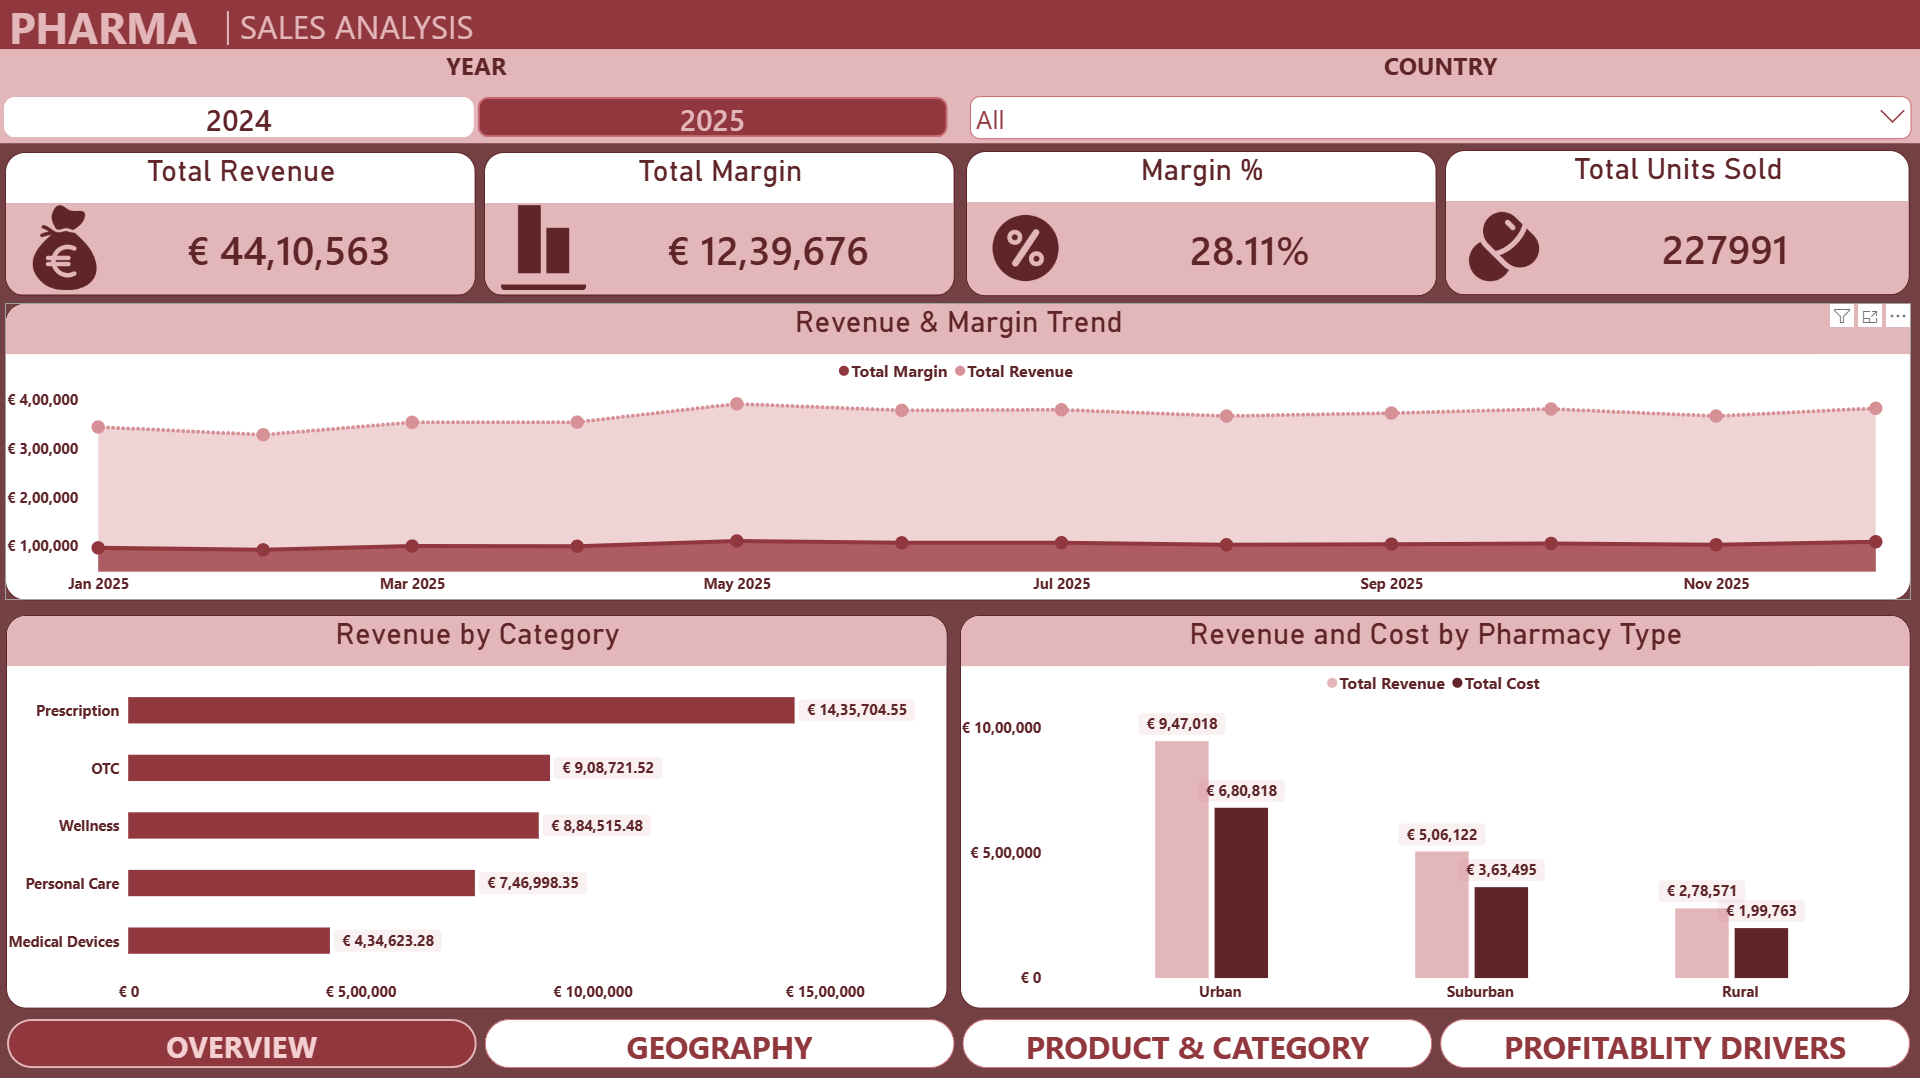

This screenshot's page, from the dashboard's own definition file:
{"tool":"powerbi","page":{"name":"OVERVIEW","canvas":[1920,1080],"ordinal":0},"visuals":[{"type":"cardVisual","title":"Margin %","fields":{"Data":["Measures_Table.Margin %"]},"box":[965,152.5,470,145],"z":0},{"type":"shape","box":[0,0,1920,145],"z":1000},{"type":"shape","box":[0,0,1920,51.2],"z":2000},{"type":"textbox","box":[241.1,6.3,276.4,56.8],"z":3000},{"type":"shape","box":[221.1,13.2,15.8,34],"z":4000},{"type":"advancedSlicerVisual","title":"YEAR","fields":{"Values":["T_DimDate.Year"]},"box":[0,51.2,953.3,93.3],"z":5000},{"type":"slicer","title":"COUNTRY","fields":{"Values":["T_DimPharmacy.Country"]},"box":[960,51.3,960,93],"z":6000},{"type":"cardVisual","title":"Total Revenue","fields":{"Data":["Measures_Table.Total Revenue"]},"box":[6.2,153.8,470,143.8],"z":7000},{"type":"cardVisual","title":"Total Units Sold","fields":{"Data":["Measures_Table.Total Units Sold"]},"box":[1443.9,152.1,464,145.5],"z":8000},{"type":"cardVisual","title":"Total Margin","fields":{"Data":["Measures_Table.Total Margin"]},"box":[483.8,153.8,470,143.8],"z":9000},{"type":"lineChart","title":"Revenue & Margin Trend","fields":{"Category":["T_DimDate.YearMonth"],"Y":["Measures_Table.Total Margin","Measures_Table.Total Revenue"]},"box":[5.7,304.3,1902.9,297.1],"z":10000},{"type":"clusteredBarChart","title":"Revenue by Category","fields":{"Category":["T_DimProduct.Category"],"Y":["Measures_Table.Total Revenue"]},"box":[7.3,616.4,940,392.7],"z":11000},{"type":"clusteredColumnChart","title":"Revenue and Cost by Pharmacy Type","fields":{"Category":["T_DimPharmacy.PharmacyType"],"Y":["Measures_Table.Total Revenue","Measures_Table.Total Cost"]},"box":[960,616.2,948.8,392.5],"z":12000},{"type":"pageNavigator","box":[7.7,1019.5,1901.3,49.6],"z":17000}]}

Visuals, with their boxes in screenshot pixels (x1, y1, x2, y2), scaled from the page's 1920x1080 canvas onto the 1920x1078 screenshot:
"Margin %" cardVisual: [965, 152, 1435, 297]
shape: [0, 0, 1919, 145]
shape: [0, 0, 1919, 51]
textbox: [241, 6, 518, 63]
shape: [221, 13, 237, 47]
"YEAR" advancedSlicerVisual: [0, 51, 953, 144]
"COUNTRY" slicer: [960, 51, 1919, 144]
"Total Revenue" cardVisual: [6, 154, 476, 297]
"Total Units Sold" cardVisual: [1444, 152, 1908, 297]
"Total Margin" cardVisual: [484, 154, 954, 297]
"Revenue & Margin Trend" lineChart: [6, 304, 1909, 600]
"Revenue by Category" clusteredBarChart: [7, 615, 947, 1007]
"Revenue and Cost by Pharmacy Type" clusteredColumnChart: [960, 615, 1909, 1007]
pageNavigator: [8, 1018, 1909, 1067]
